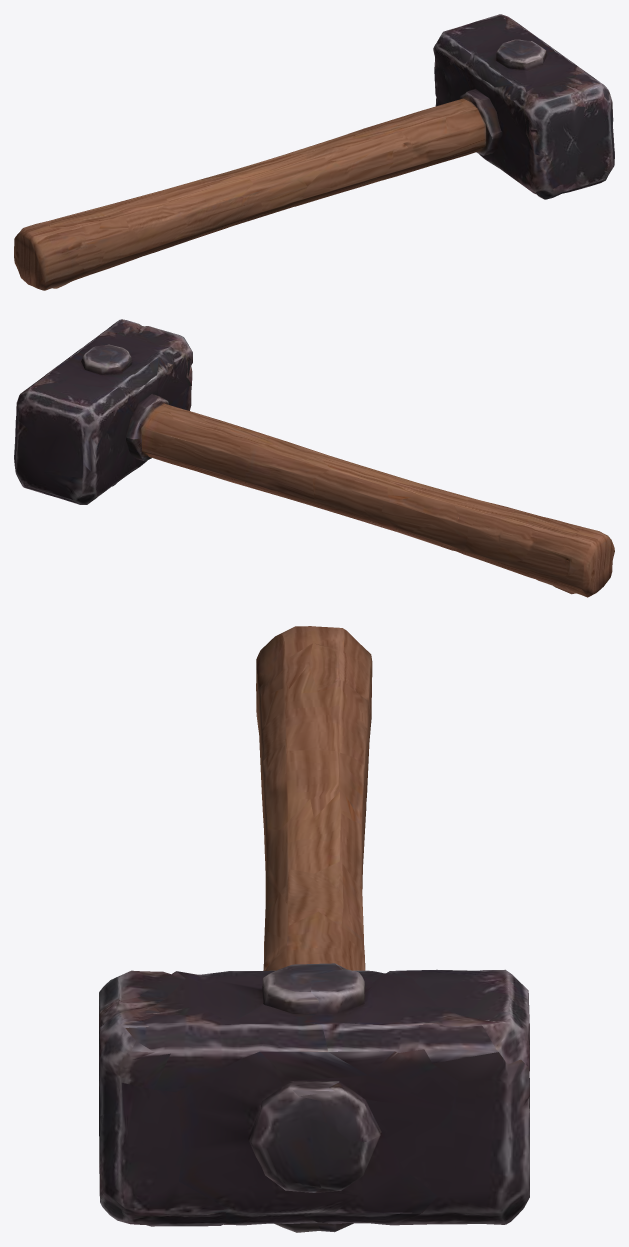
The model's file is tool_hammer_stolyarnyy_idle.glb.
3 renders of one model, top to bottom at view 1: azimuth 30°, elevation 25°; view 2: azimuth 150°, elevation 25°; view 3: azimuth 270°, elevation 25°, orthographic. The views are drawn at different scales.
Visible parts, largest first — view 1: tripo_node_ebb56039-60d3-49b9-84be-45584eacd7ed; view 2: tripo_node_ebb56039-60d3-49b9-84be-45584eacd7ed; view 3: tripo_node_ebb56039-60d3-49b9-84be-45584eacd7ed.
Part boxes in pixels (x1,y1,x2,y2): tripo_node_ebb56039-60d3-49b9-84be-45584eacd7ed: (14, 14, 614, 290); tripo_node_ebb56039-60d3-49b9-84be-45584eacd7ed: (14, 319, 614, 597); tripo_node_ebb56039-60d3-49b9-84be-45584eacd7ed: (99, 626, 529, 1232).
Bounding box in the file's own units: 0.3 × 0.0642 × 0.1021.
1 material, 1 textured.
